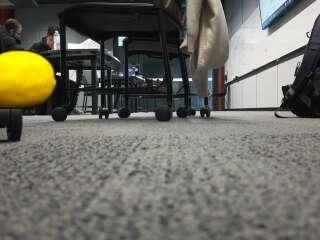lemon: (1, 51, 57, 108)
